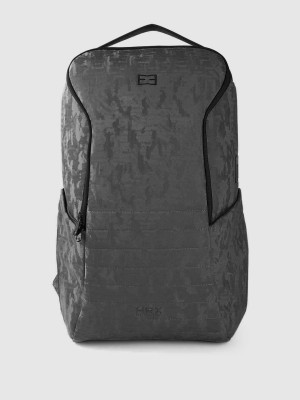backpack: (52, 23, 249, 343)
